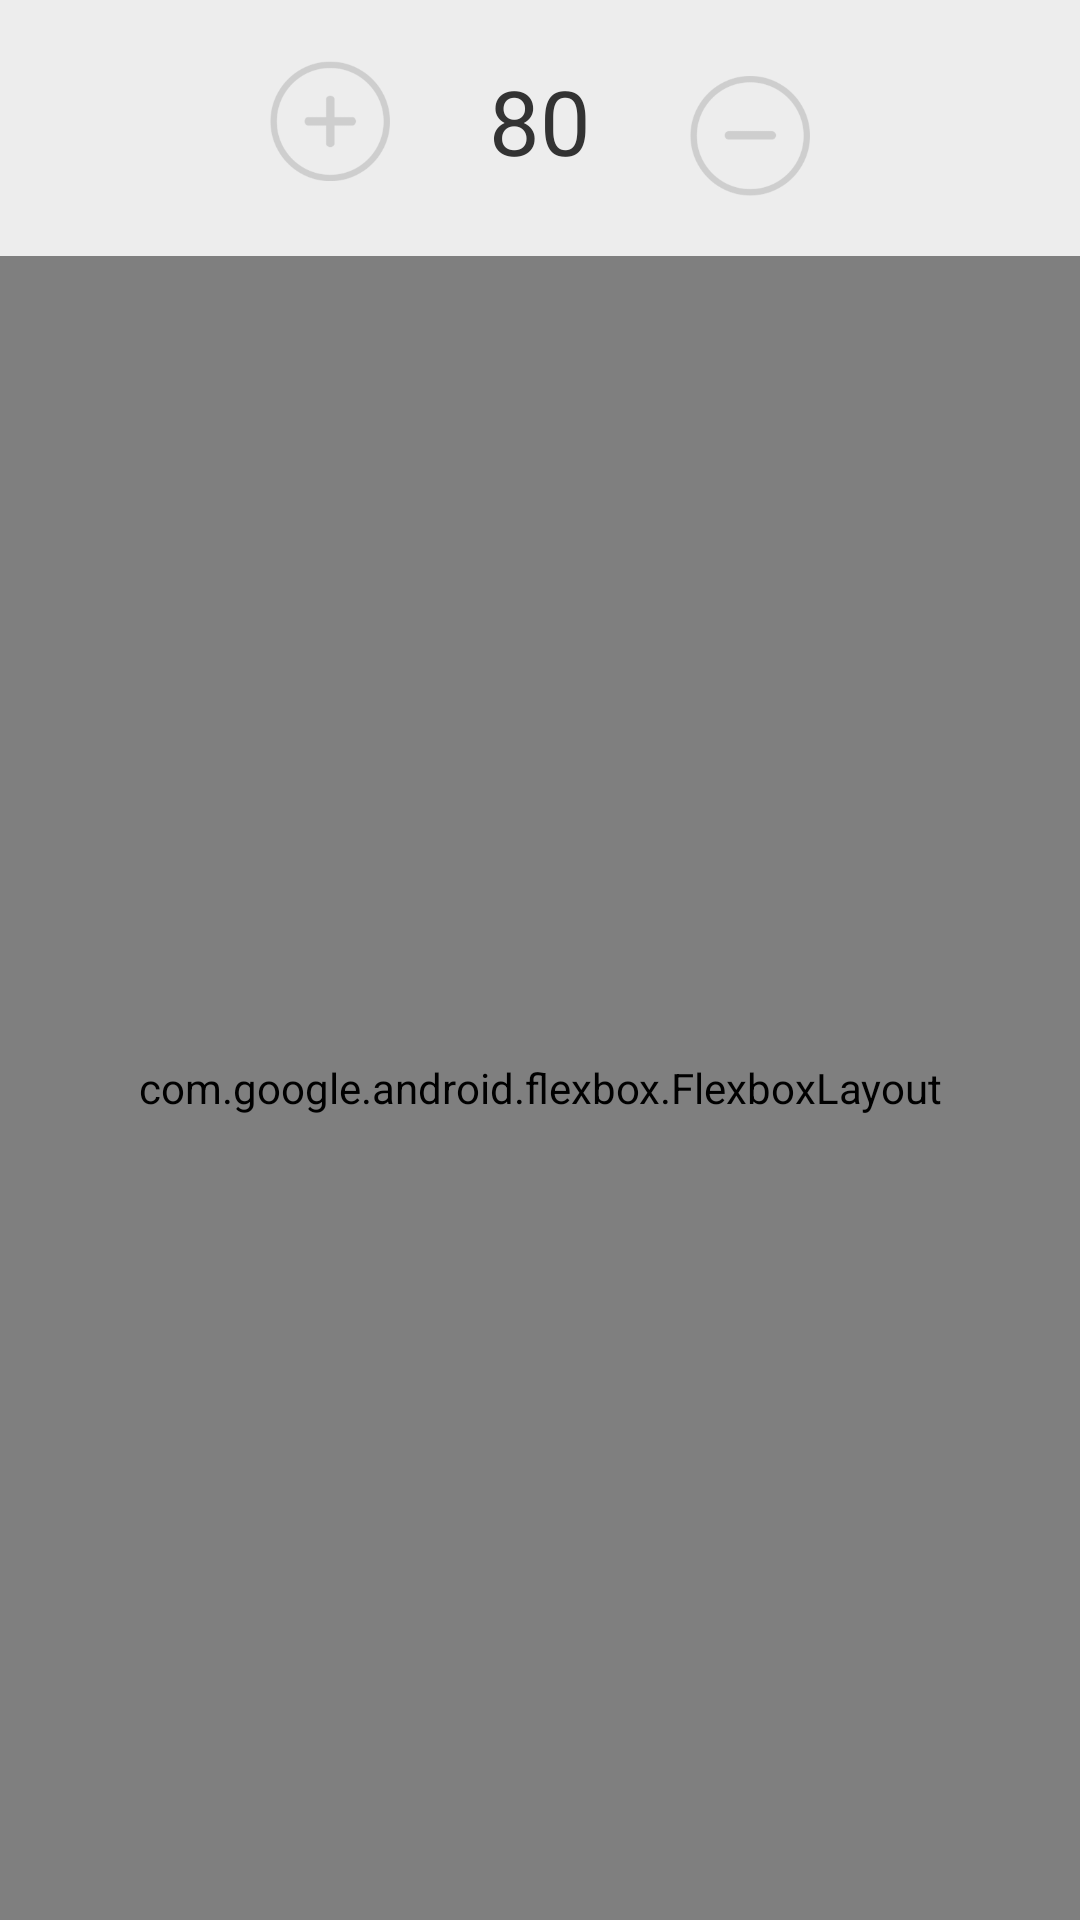

Where to tap for icons on this 1080x1920 app screen, as (x,y):
speed add: (330,121)
speed sub: (750,135)
